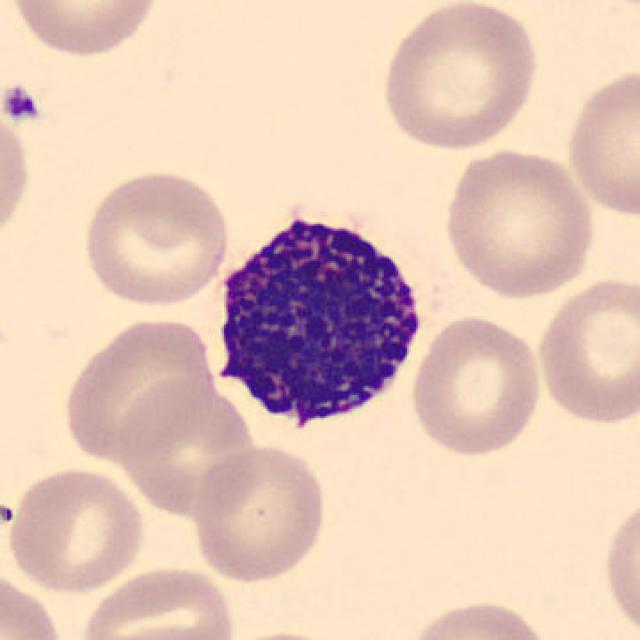Basophil: (204, 196, 432, 444)
Platelets: (0, 81, 44, 125), (0, 501, 16, 529)
RBC: (375, 0, 544, 153), (439, 143, 599, 301), (59, 312, 217, 466), (78, 165, 233, 308), (407, 310, 546, 460), (188, 441, 330, 585), (4, 464, 150, 594), (532, 272, 638, 428), (75, 562, 240, 640), (560, 62, 638, 220), (6, 0, 166, 60), (400, 594, 556, 640), (599, 488, 640, 640), (0, 99, 34, 250), (0, 566, 68, 640), (80, 620, 240, 640), (213, 626, 352, 640), (579, 0, 640, 19)
